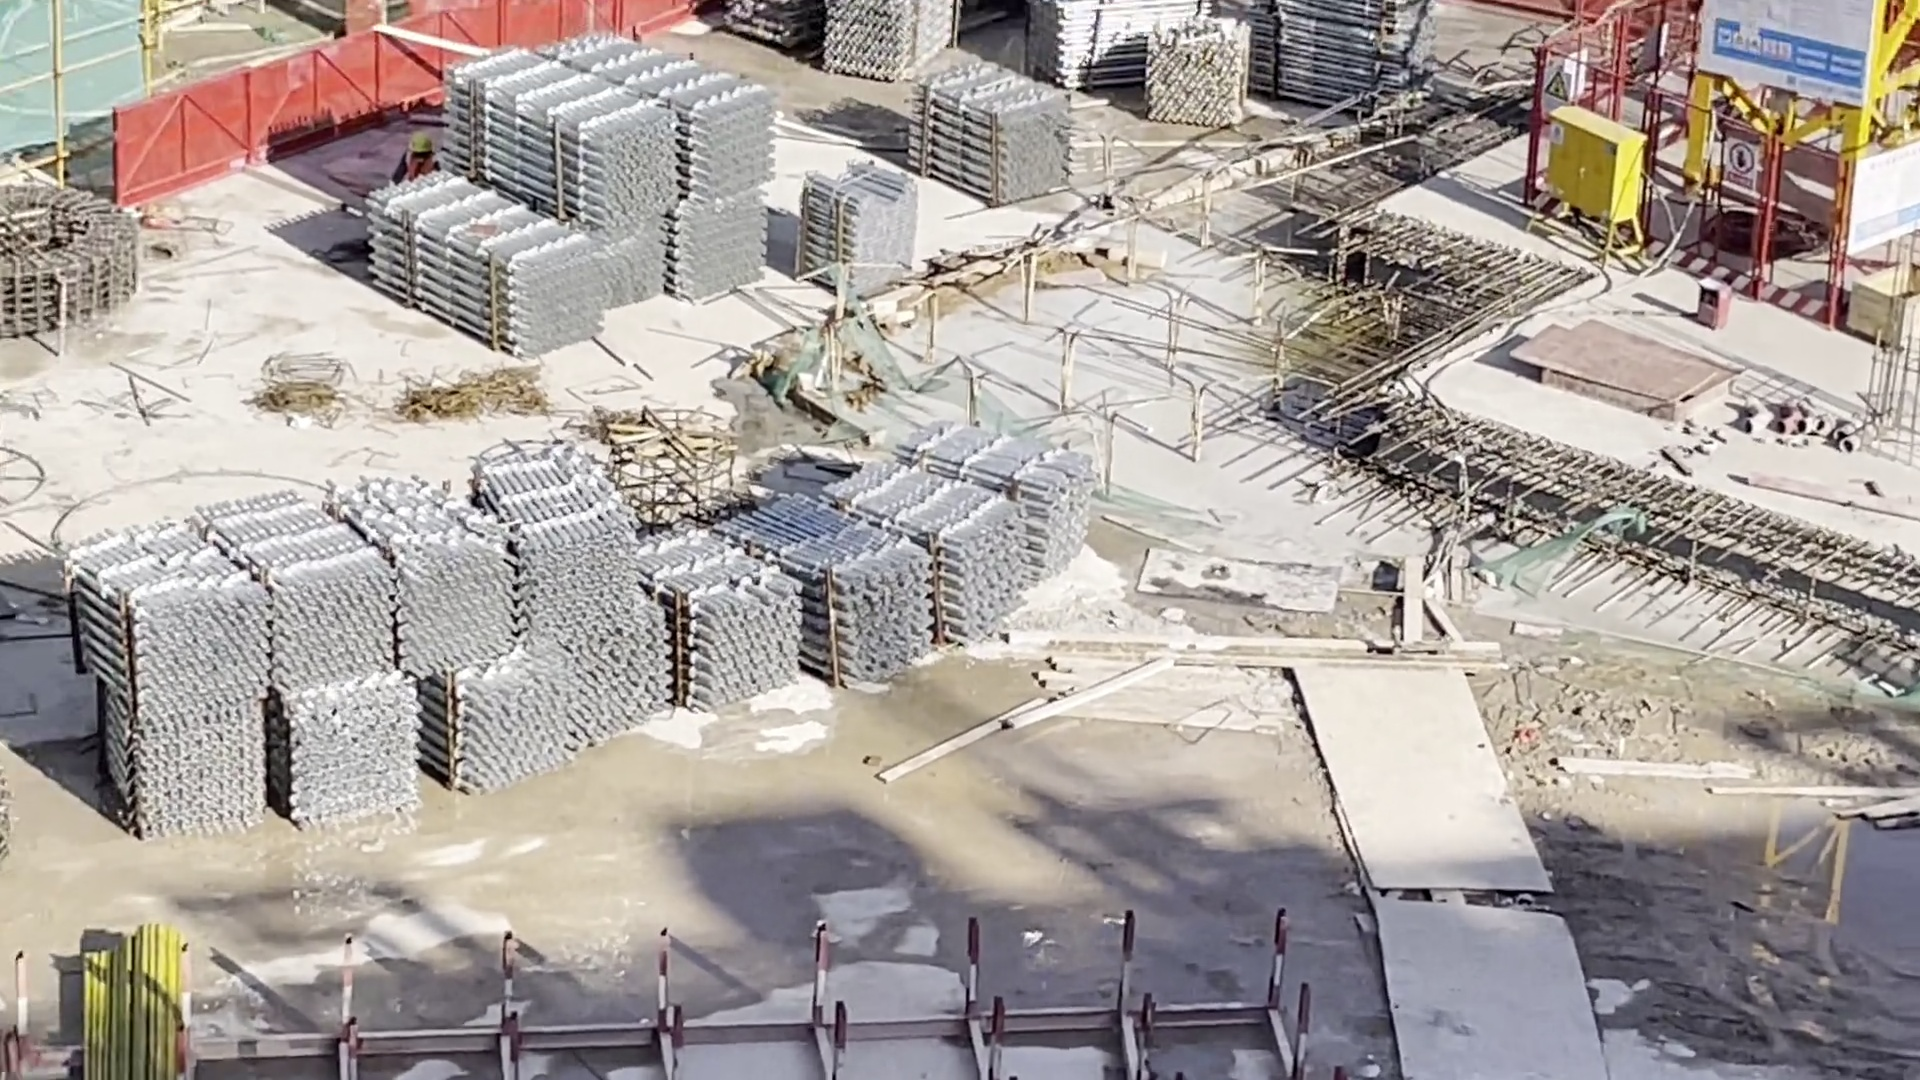board: (1523, 310, 1756, 429)
ebox: (1534, 98, 1639, 255)
fence: (112, 1, 688, 204)
scaffold: (73, 422, 1098, 828), (355, 44, 804, 355), (1029, 1, 1433, 123), (905, 67, 1075, 206), (825, 160, 927, 328), (811, 1, 957, 82)
